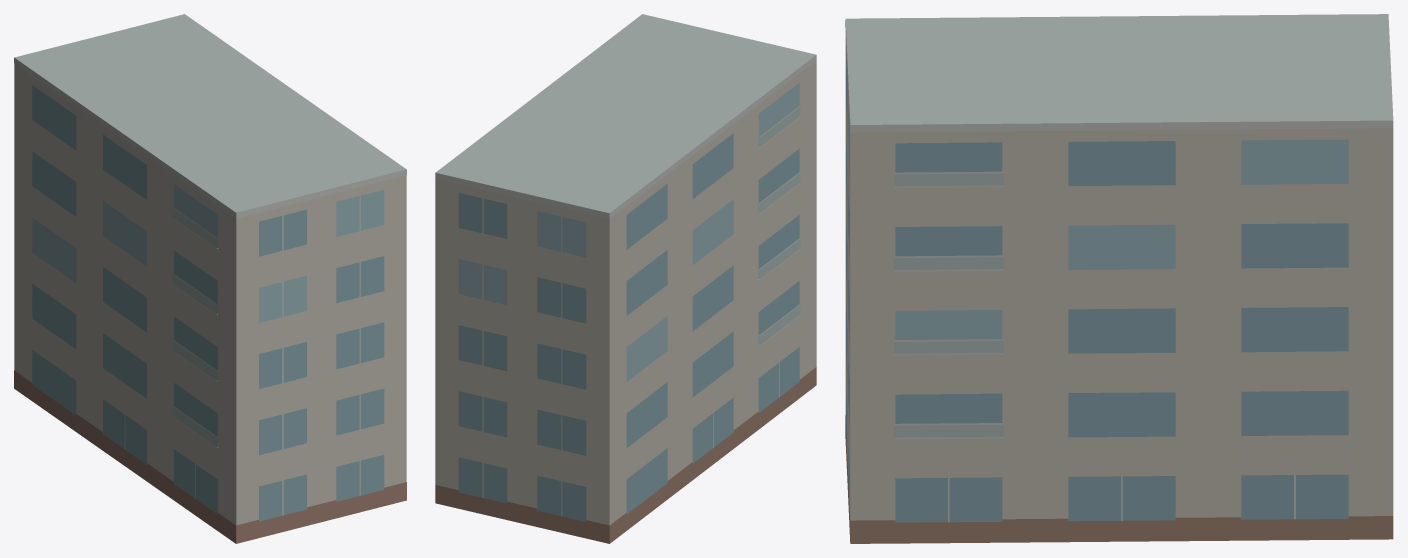
The model's file is survey-upis-32626714.glb.
3 renders of one model, left to right at view 1: azimuth 30°, elevation 25°; view 2: azimuth 150°, elevation 25°; view 3: azimuth 270°, elevation 25°, orthographic. The views are drawn at different scales.
Parts seen in each view (by area): view 1: survey-upis-32626714.tmp; view 2: survey-upis-32626714.tmp; view 3: survey-upis-32626714.tmp.
Boxes of the visible parts, <box> form: survey-upis-32626714.tmp: <box>14,14,406,543</box>; survey-upis-32626714.tmp: <box>435,14,816,543</box>; survey-upis-32626714.tmp: <box>845,14,1393,543</box>.
Bounding box in the file's own units: 7.78 × 13.65 × 16.19.
